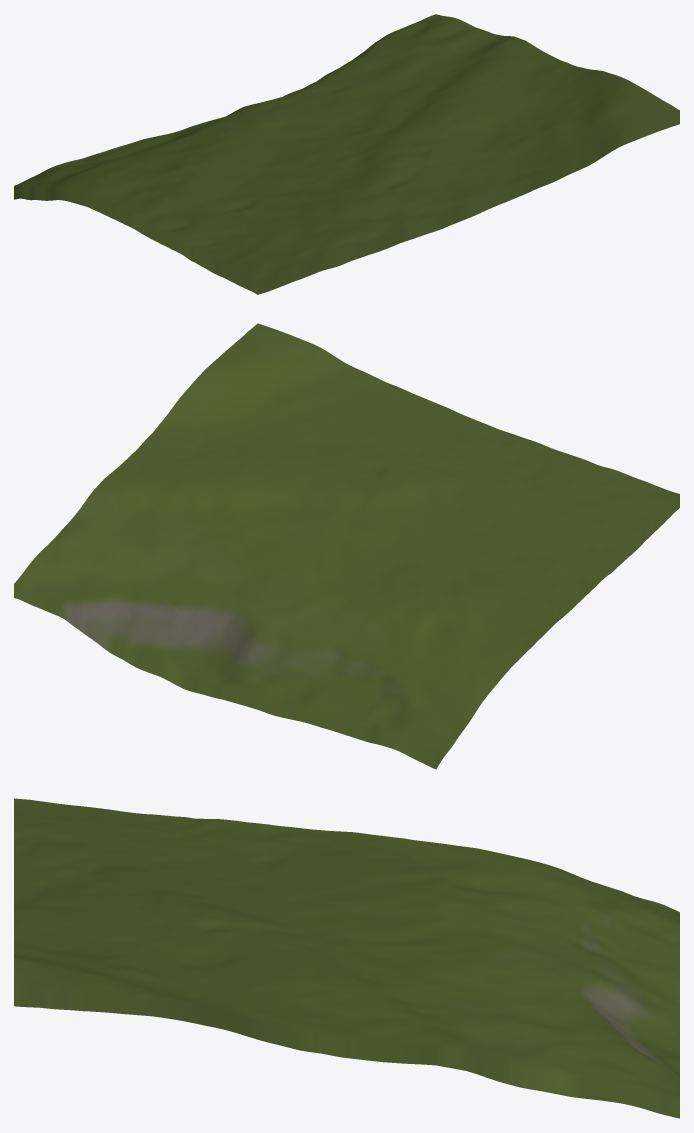
Rendered from terrain_2_-2.glb.
3 views of the same model, one above another, from view 1: azimuth 30°, elevation 25°; view 2: azimuth 150°, elevation 25°; view 3: azimuth 270°, elevation 25° (orthographic). The views are drawn at different scales.
Visible parts, largest first — view 1: terrain_2_-2; view 2: terrain_2_-2; view 3: terrain_2_-2.
Boxes of the visible parts, x1=… form: terrain_2_-2: x1=14, y1=14, x2=679, y2=294; terrain_2_-2: x1=14, y1=323, x2=679, y2=769; terrain_2_-2: x1=14, y1=798, x2=679, y2=1118.
Size of the model in its own units: 256 by 95.48 by 256.
